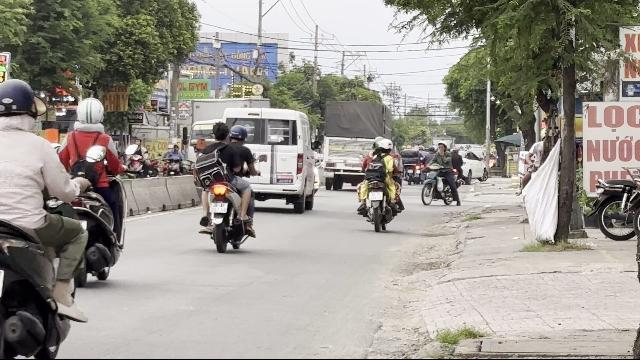helmet: (1, 78, 40, 132), (73, 98, 105, 130), (228, 124, 246, 142)
licenseplate: (210, 202, 227, 213)
motorcyclist: (0, 75, 92, 356), (54, 96, 128, 288), (192, 118, 258, 252)
nohelmet: (211, 122, 229, 142)
